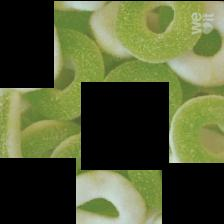green: (88, 59, 182, 145), (25, 27, 104, 119), (115, 0, 204, 61), (169, 94, 224, 183), (48, 129, 131, 187), (21, 119, 84, 191), (128, 134, 181, 212)
